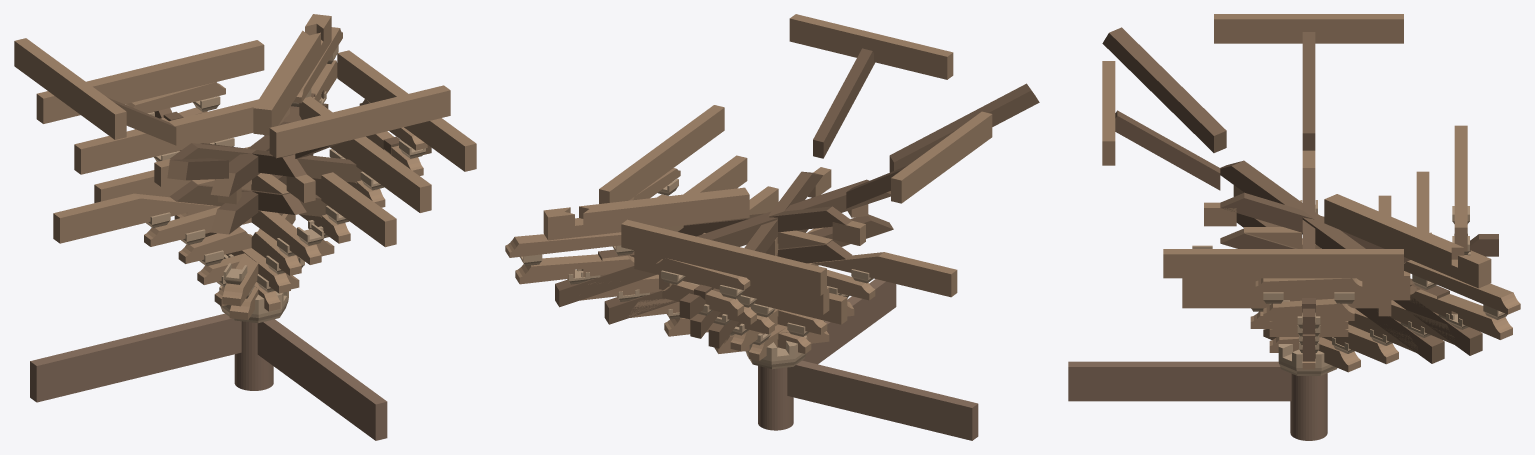
The model's file is puzuo-zhuanjiao-03.fbx.
3 views of the same model, side by side, from view 1: azimuth 30°, elevation 25°; view 2: azimuth 150°, elevation 25°; view 3: azimuth 270°, elevation 25° (orthographic). The views are drawn at different scales.
Parts seen in each view (by area): view 1: A02_阑额_前檐, K16_撩檐枋_前檐, A03_阑额_山面, M07_藻井边枋_前檐, H10_罗汉枋_跳3_前檐, M08_藻井边枋_山面, L09_柱头方_前檐, K17_撩檐枋_山面, K18_角撩檐枋（角梁）, H11_罗汉枋_跳3_山面, F08_罗汉枋_跳2_山面, I05_下昂二_山面 (+27 smaller); view 2: A02_阑额_前檐, K18_角撩檐枋（角梁）, K16_撩檐枋_前檐, M07_藻井边枋_前檐, I06_角昂二, K17_撩檐枋_山面, L09_柱头方_前檐, M08_藻井边枋_山面, A03_阑额_山面, M06_角挑斡, H10_罗汉枋_跳3_前檐, K03_列令栱_角（跳4） (+25 smaller); view 3: A03_阑额_山面, K17_撩檐枋_山面, K18_角撩檐枋（角梁）, M08_藻井边枋_山面, I06_角昂二, M06_角挑斡, H11_罗汉枋_跳3_山面, M04_挑斡_前檐, A01_檐柱, K03_列令栱_角（跳4）, I04_下昂二_前檐, K15_角替木 (+22 smaller).
Boxes of the visible parts, left/top/right/bottom form: A02_阑额_前檐: left=30, top=313, right=241, bottom=402; K16_撩檐枋_前檐: left=36, top=40, right=264, bottom=123; A03_阑额_山面: left=257, top=319, right=387, bottom=440; M07_藻井边枋_前檐: left=269, top=85, right=450, bottom=158; H10_罗汉枋_跳3_前檐: left=74, top=99, right=289, bottom=174; M08_藻井边枋_山面: left=14, top=38, right=126, bottom=139; L09_柱头方_前檐: left=53, top=179, right=251, bottom=243; K17_撩檐枋_山面: left=337, top=50, right=476, bottom=171; K18_角撩檐枋（角梁）: left=253, top=14, right=331, bottom=135; H11_罗汉枋_跳3_山面: left=299, top=96, right=431, bottom=212; F08_罗汉枋_跳2_山面: left=264, top=135, right=396, bottom=247; I05_下昂二_山面: left=170, top=143, right=366, bottom=182; A02_阑额_前檐: left=787, top=360, right=978, bottom=440; K18_角撩檐枋（角梁）: left=543, top=187, right=749, bottom=240; K16_撩檐枋_前檐: left=621, top=219, right=826, bottom=295; M07_藻井边枋_前檐: left=789, top=14, right=953, bottom=79; I06_角昂二: left=555, top=179, right=890, bottom=307; K17_撩檐枋_山面: left=599, top=105, right=724, bottom=203; L09_柱头方_前檐: left=777, top=230, right=957, bottom=297; M08_藻井边枋_山面: left=891, top=111, right=992, bottom=203; A03_阑额_山面: left=802, top=279, right=896, bottom=364; M06_角挑斡: left=889, top=83, right=1039, bottom=172; H10_罗汉枋_跳3_前檐: left=634, top=250, right=829, bottom=314; K03_列令栱_角（跳4）: left=515, top=254, right=634, bottom=284; A03_阑额_山面: left=1068, top=361, right=1291, bottom=401; K17_撩檐枋_山面: left=1163, top=249, right=1403, bottom=278; K18_角撩檐枋（角梁）: left=1324, top=194, right=1491, bottom=288; M08_藻井边枋_山面: left=1214, top=14, right=1403, bottom=43; I06_角昂二: left=1220, top=160, right=1482, bottom=355; M06_角挑斡: left=1102, top=27, right=1226, bottom=152; H11_罗汉枋_跳3_山面: left=1182, top=271, right=1410, bottom=300; M04_挑斡_前檐: left=1115, top=110, right=1220, bottom=190; A01_檐柱: left=1290, top=373, right=1327, bottom=440; K03_列令栱_角（跳4）: left=1410, top=289, right=1512, bottom=339; I04_下昂二_前檐: left=1220, top=192, right=1410, bottom=262; K15_角替木: left=1404, top=260, right=1520, bottom=314.
Size of the model in its own units: 5.12 by 4.14 by 5.12.
